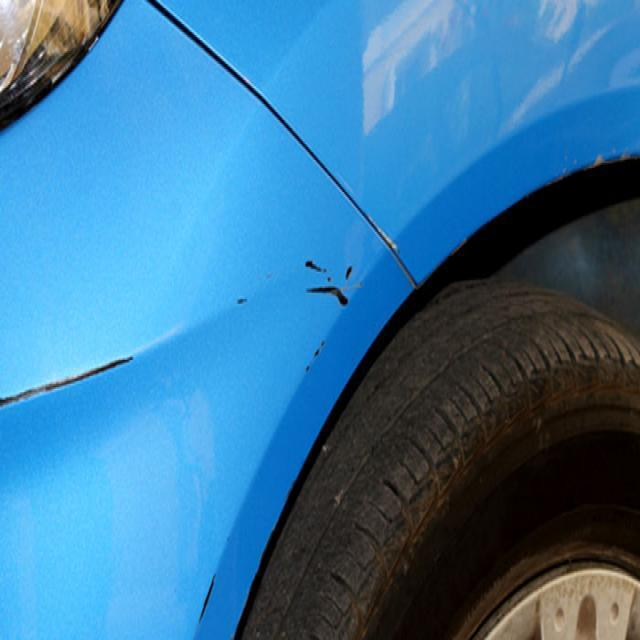scratch: (274, 253, 370, 384), (1, 347, 138, 408), (182, 545, 232, 636)
